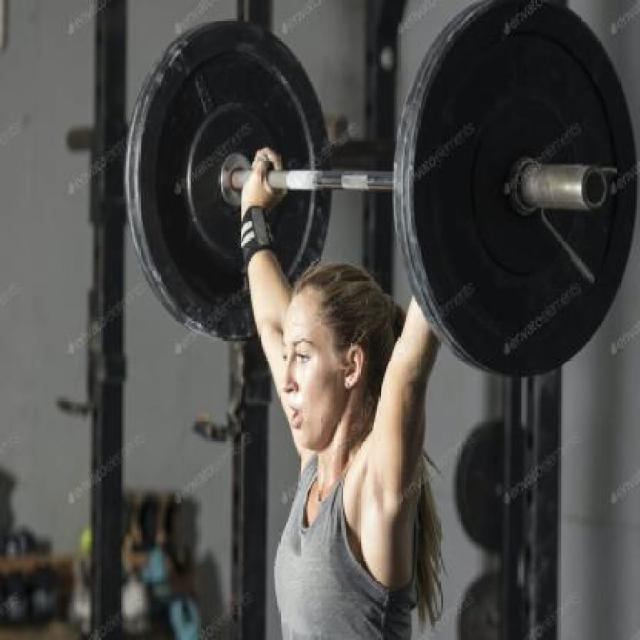barbell: (392, 1, 639, 389)
